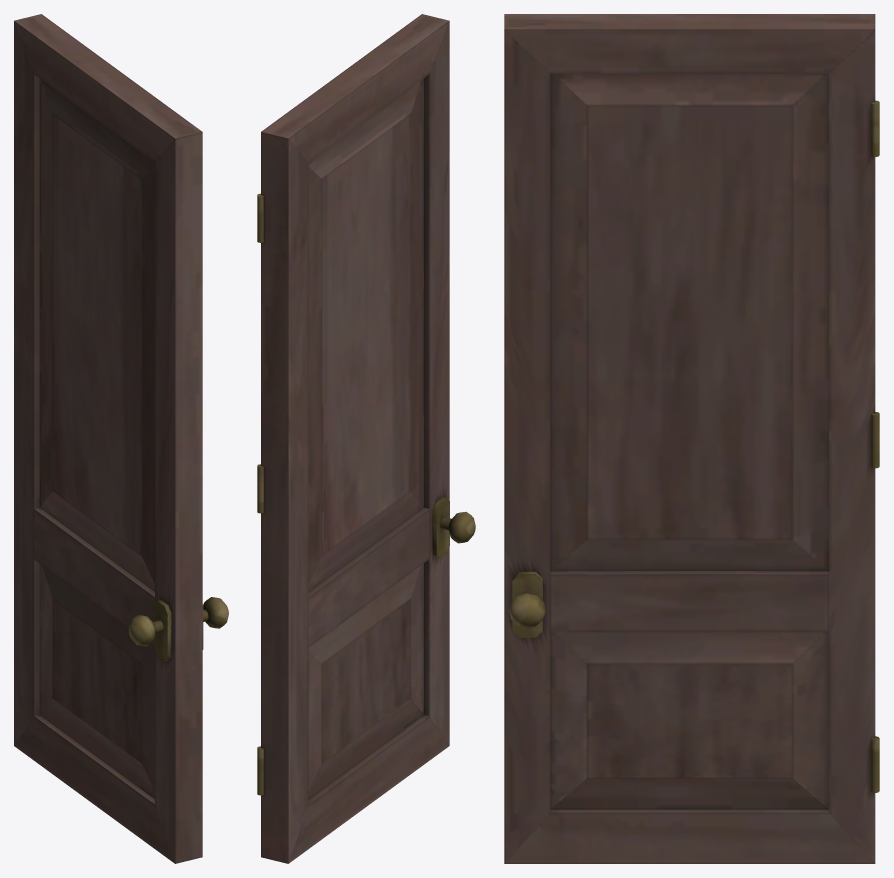
Rendered from doorframe_01_door_01a.glb.
The picture shows the model from 3 angles, left to right: view 1: azimuth 30°, elevation 25°; view 2: azimuth 150°, elevation 25°; view 3: azimuth 270°, elevation 25°; orthographic projection. The views are drawn at different scales.
Parts seen in each view (by area): view 1: doorframe_01_door_01a; view 2: doorframe_01_door_01a; view 3: doorframe_01_door_01a.
Boxes of the visible parts, x1,y1,x2,y2 form: doorframe_01_door_01a: [14, 14, 228, 863]; doorframe_01_door_01a: [257, 14, 475, 863]; doorframe_01_door_01a: [504, 14, 879, 863].
Bounding box in the file's own units: 0.3291 × 2.4 × 0.9782.
1 material, 1 textured.
